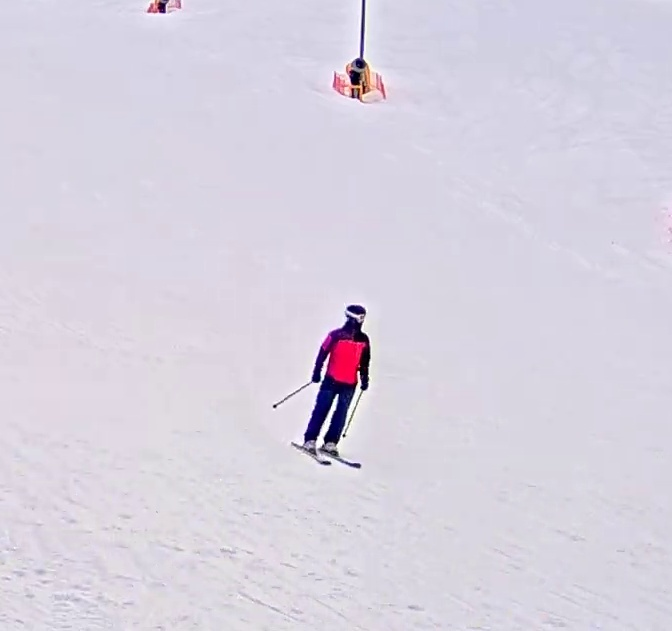skier: (267, 289, 373, 472)
